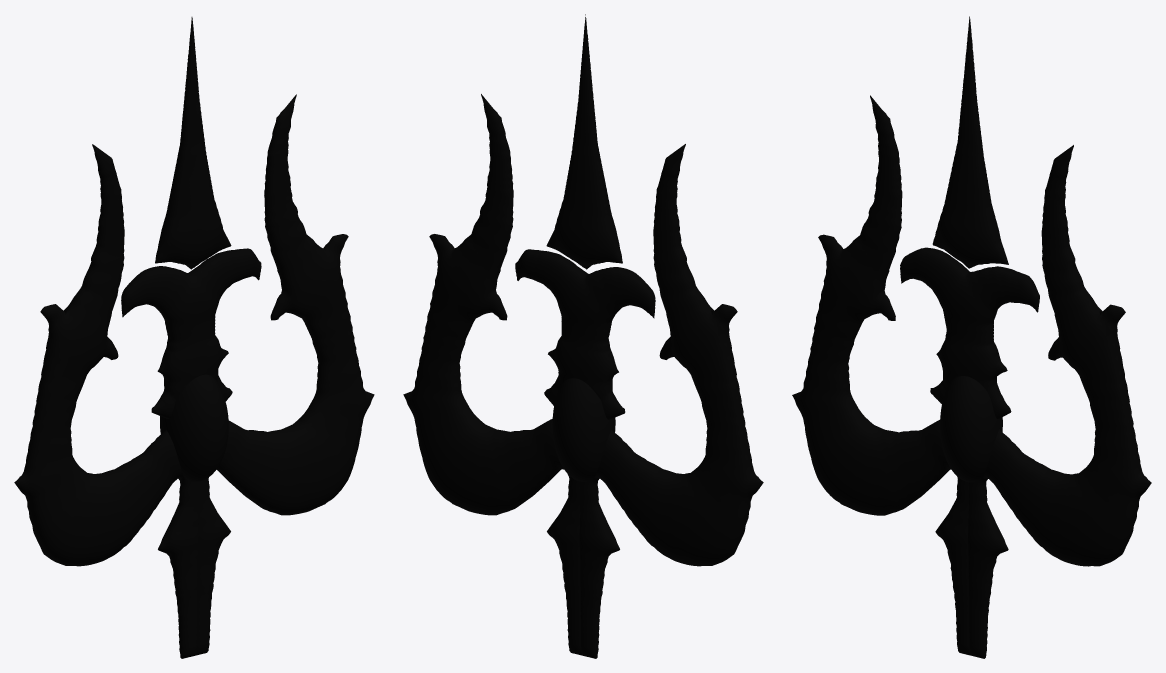
The model's file is 3d_sullam.glb.
3 views of the same model, side by side, from view 1: azimuth 30°, elevation 25°; view 2: azimuth 150°, elevation 25°; view 3: azimuth 330°, elevation 25° (orthographic).
Parts seen in each view (by area): view 1: mesh_id28, mesh_id29, mesh_id32, mesh_id33, mesh_id31; view 2: mesh_id28, mesh_id29, mesh_id32, mesh_id33, mesh_id31; view 3: mesh_id29, mesh_id28, mesh_id32, mesh_id33, mesh_id31.
Part boxes in pixels (x1,y1,x2,y2): mesh_id28: (14, 144, 198, 658); mesh_id29: (195, 94, 374, 655); mesh_id32: (121, 248, 261, 418); mesh_id33: (155, 17, 231, 269); mesh_id31: (160, 374, 228, 481); mesh_id28: (579, 144, 763, 658); mesh_id29: (403, 94, 583, 655); mesh_id32: (515, 249, 655, 419); mesh_id33: (546, 14, 622, 269); mesh_id31: (552, 378, 615, 481); mesh_id29: (968, 145, 1151, 658); mesh_id28: (792, 95, 970, 655); mesh_id32: (900, 247, 1039, 419); mesh_id33: (932, 16, 1008, 268); mesh_id31: (940, 376, 1002, 482).
Bounding box in the file's own units: 0.2318 × 0.3949 × 0.04.
Materials: 5 (5 with a texture image).
